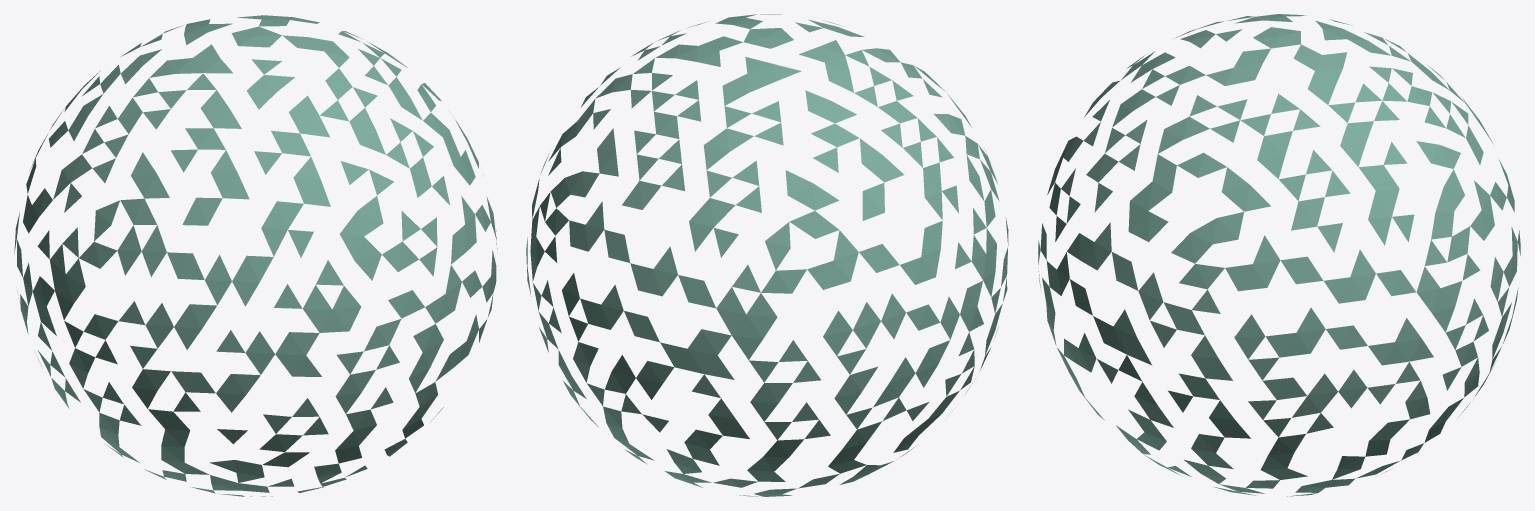
Rendered from toy_marble_a04.glb.
3 renders of one model, left to right at view 1: azimuth 30°, elevation 25°; view 2: azimuth 150°, elevation 25°; view 3: azimuth 270°, elevation 25°, orthographic.
Visible parts, largest first — view 1: geometry_0; view 2: geometry_0; view 3: geometry_0.
Part boxes in pixels (<box>): geometry_0: <box>14,15,497,496</box>; geometry_0: <box>526,14,1008,496</box>; geometry_0: <box>1038,14,1520,496</box>.
Bounding box in the file's own units: 0.48 × 0.4785 × 0.479.
